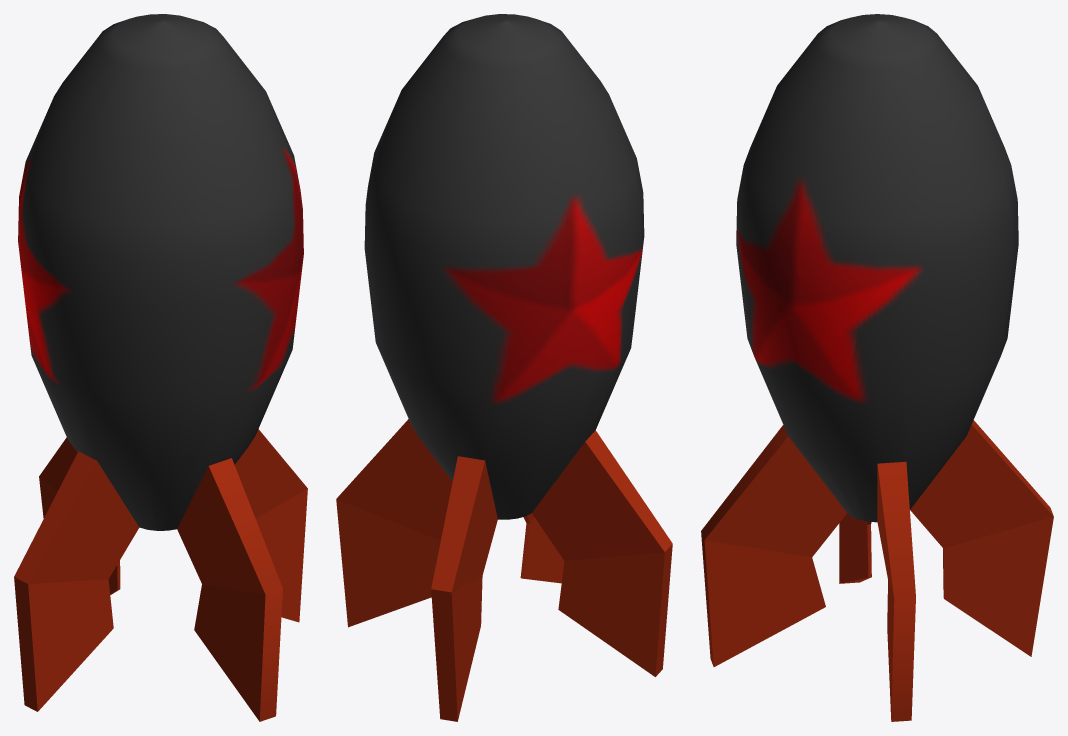
File: Misselsmall.fbx
The picture shows the model from 3 angles, left to right: view 1: azimuth 30°, elevation 25°; view 2: azimuth 150°, elevation 25°; view 3: azimuth 270°, elevation 25°; orthographic projection. The views are drawn at different scales.
Visible parts, largest first — view 1: pCylinder1; view 2: pCylinder1; view 3: pCylinder1.
Part boxes in pixels (<box>): pCylinder1: <box>14,14,307,721</box>; pCylinder1: <box>336,14,672,721</box>; pCylinder1: <box>701,14,1053,721</box>.
Bounding box in the file's own units: 109 × 219 × 109.
Materials: 1 (1 with a texture image).
